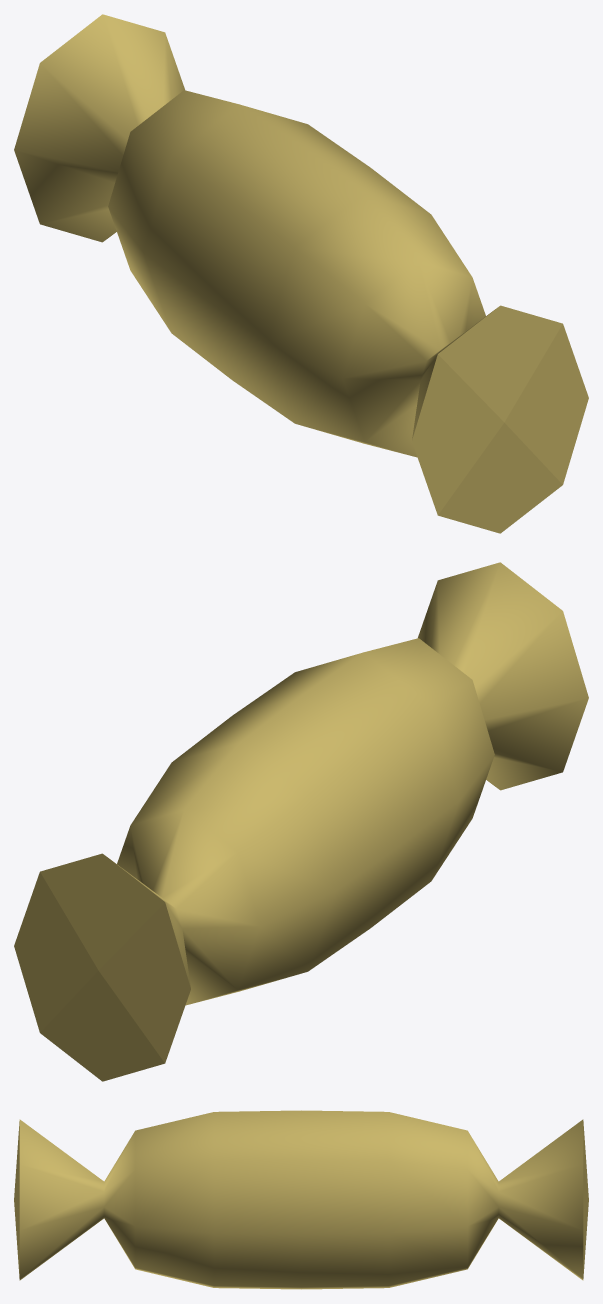
The model's file is OvalCandy.fbx.
3 renders of one model, top to bottom at view 1: azimuth 30°, elevation 25°; view 2: azimuth 150°, elevation 25°; view 3: azimuth 270°, elevation 25°, orthographic. The views are drawn at different scales.
Parts seen in each view (by area): view 1: Candy2; view 2: Candy2; view 3: Candy2.
Boxes of the visible parts, bbox=[...] form: Candy2: bbox=[14, 14, 588, 533]; Candy2: bbox=[14, 562, 588, 1081]; Candy2: bbox=[14, 1110, 588, 1289].
Size of the model in its own units: 0.7554 by 0.9302 by 2.71.
